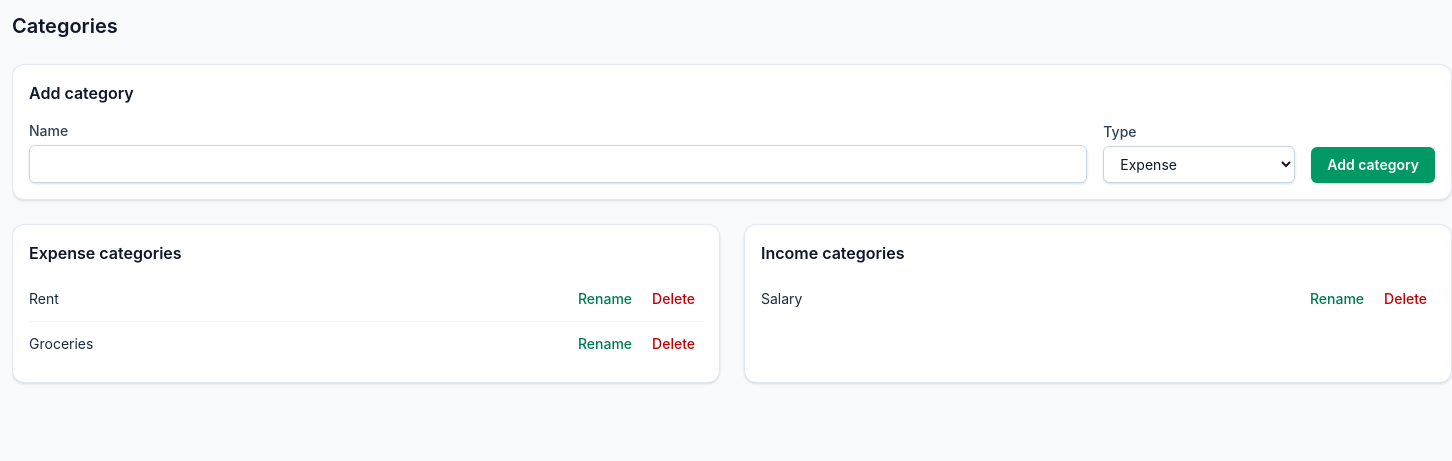
Test case: CategoriesView › renames a category inline
Expected: the text "Rent" is shown, [29,289,59,309]
Click the button with aria-label "Rename Rent".
click(605, 299)  # box [570,285,640,313]
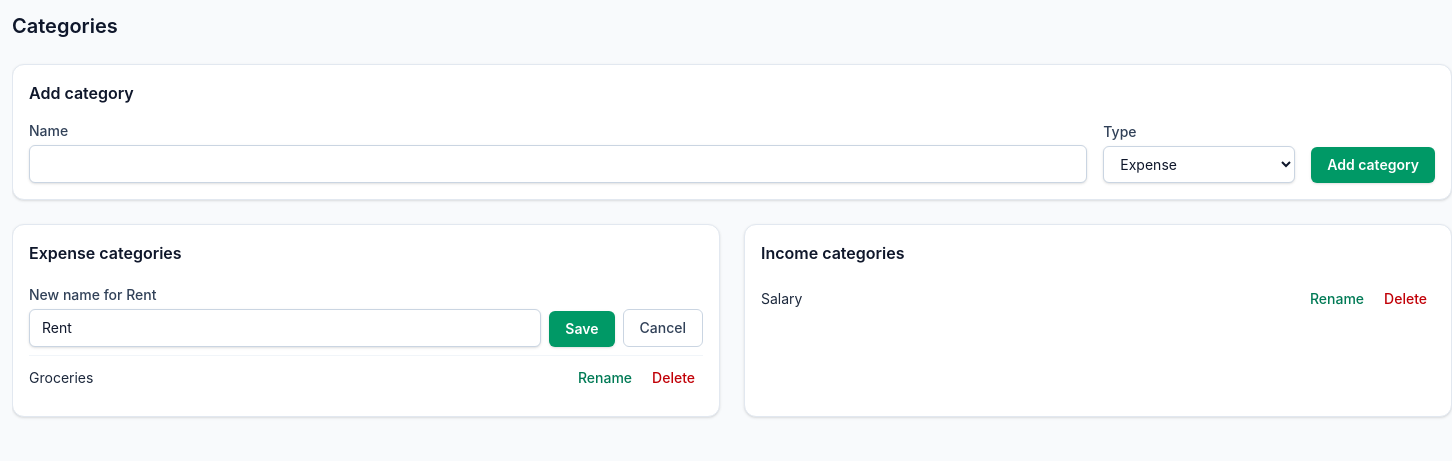
Replace the text in the field labelled "New name for Rent" with "Housing" at (285, 328), box [29,309,541,347]
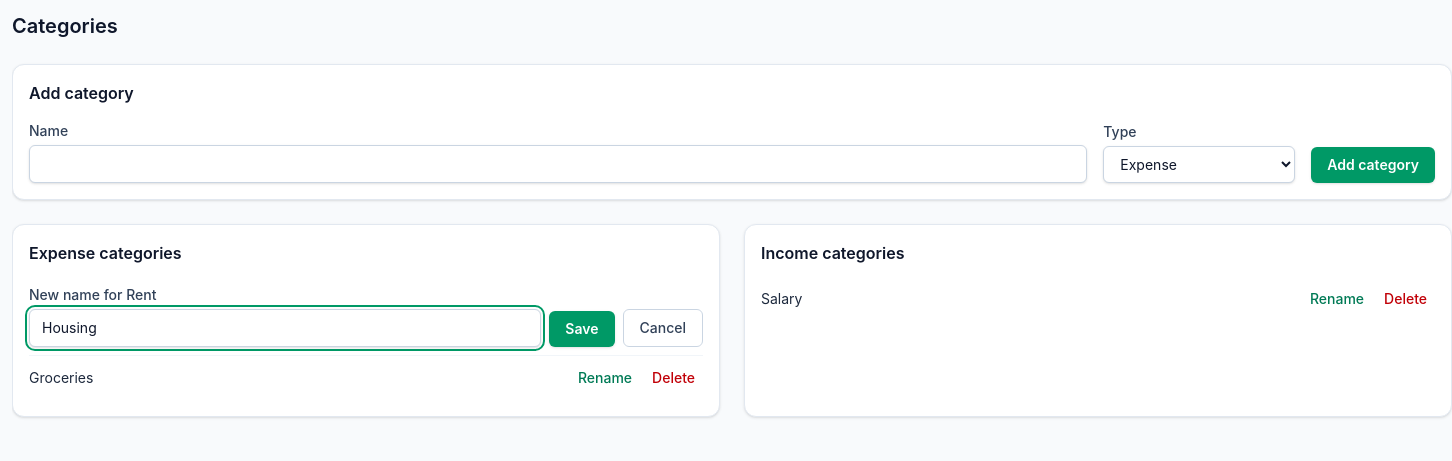
Click the button "Save".
click(582, 329)  # box [549,311,615,347]
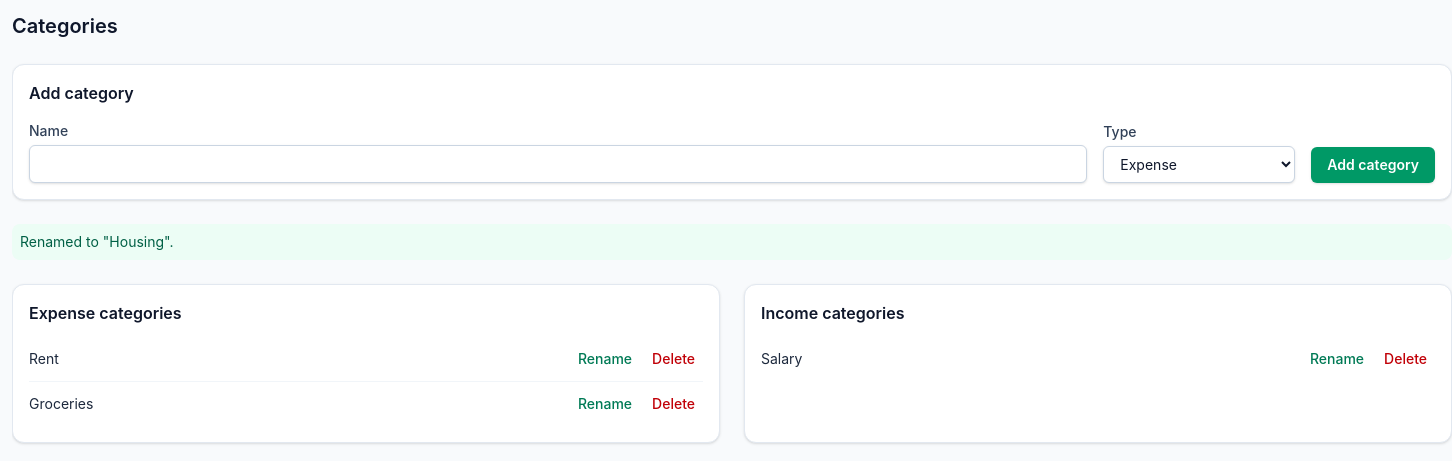
Now the text "Renamed to \"Housing\"." is shown, box [12,224,1451,260]
